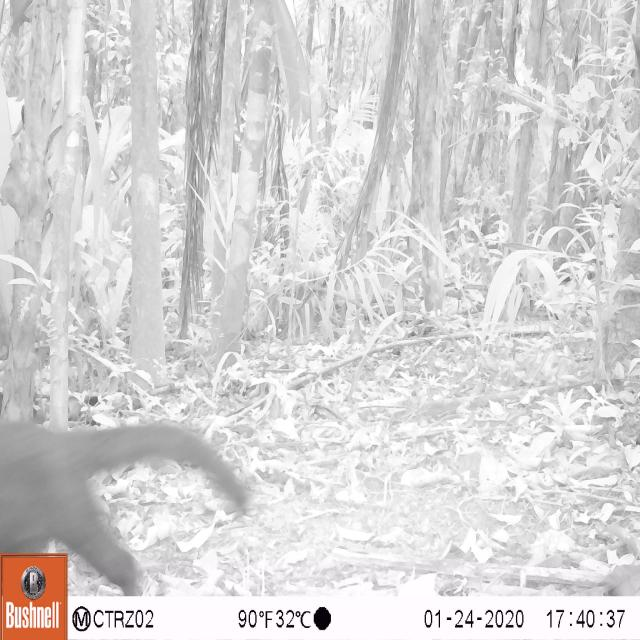Tayra: (0, 412, 252, 574)
